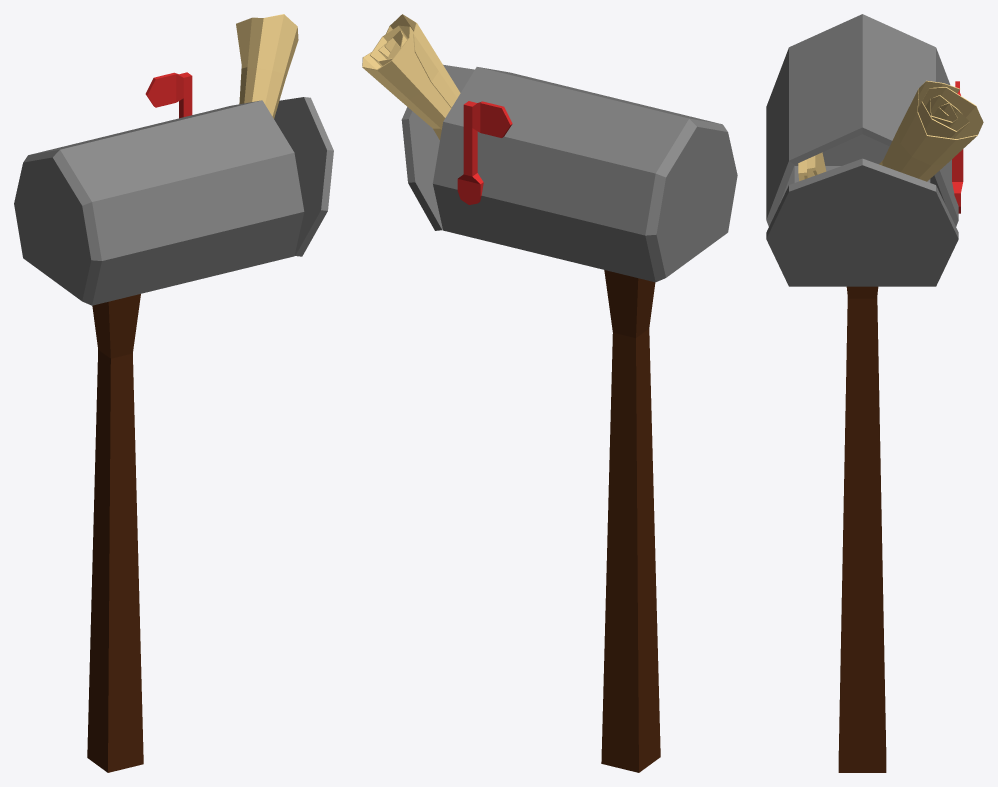
Rendered from Briefkasten1oBriefen.fbx.
The picture shows the model from 3 angles, left to right: view 1: azimuth 30°, elevation 25°; view 2: azimuth 150°, elevation 25°; view 3: azimuth 270°, elevation 25°; orthographic projection. The views are drawn at different scales.
Visible parts, largest first — view 1: Cube.030, Plane.006, Cube.027; view 2: Cube.030, Plane.006, Cube.027; view 3: Cube.030, Plane.006, Cube.027.
Boxes of the visible parts, bbox=[...] form: Cube.030: bbox=[14, 97, 333, 772]; Plane.006: bbox=[236, 14, 298, 118]; Cube.027: bbox=[145, 72, 192, 118]; Cube.030: bbox=[401, 64, 737, 772]; Plane.006: bbox=[362, 14, 460, 139]; Cube.027: bbox=[457, 101, 512, 204]; Cube.030: bbox=[766, 14, 958, 772]; Plane.006: bbox=[879, 80, 983, 181]; Cube.027: bbox=[952, 81, 963, 213].
Bounding box in the file's own units: 156 × 366 × 91.93.
